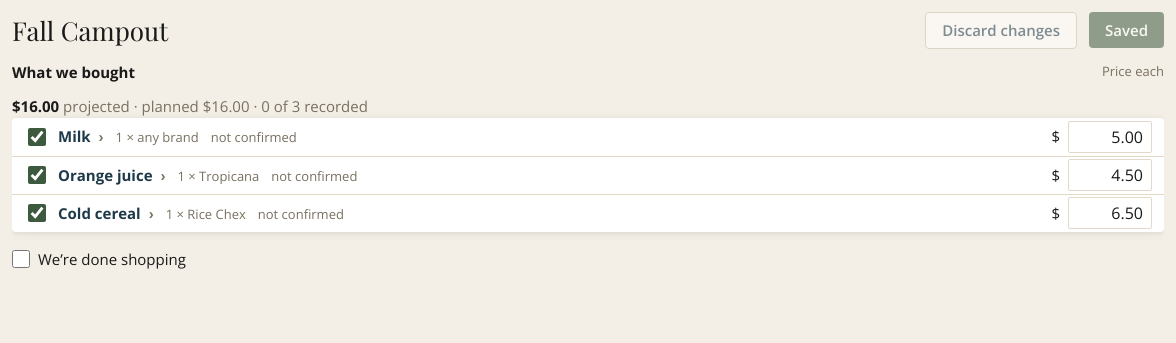
Test: What we bought — the prefilled checklist › APriceWithAComma_IsNotReadAsHundreds
Replace the text in the field named "Price for Milk, dollars" with "5,50" at (1110, 136), box [1068, 120, 1152, 152]
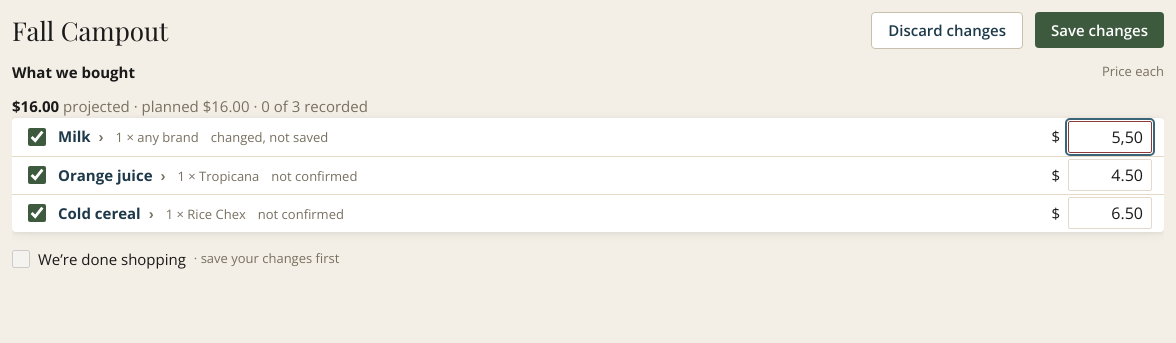
Click the button "Save changes".
click(1100, 30)  # box [1035, 12, 1164, 48]
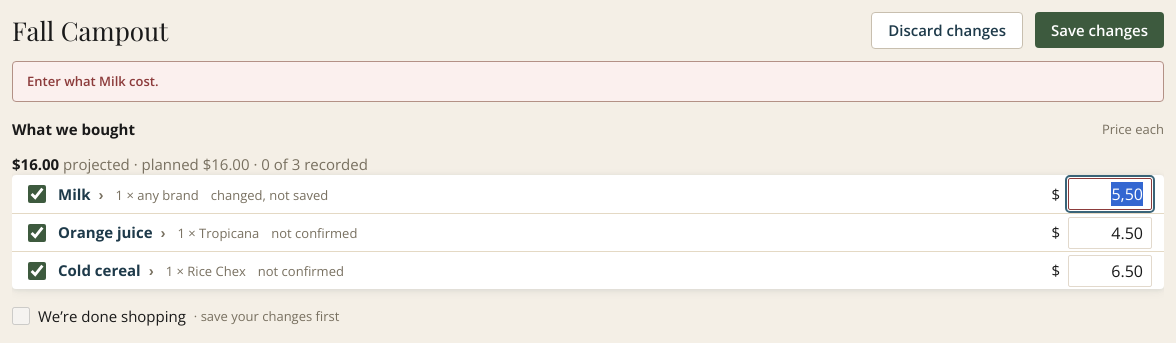
Expected: the text "Enter what Milk cost." is shown, [12, 60, 1164, 102]
